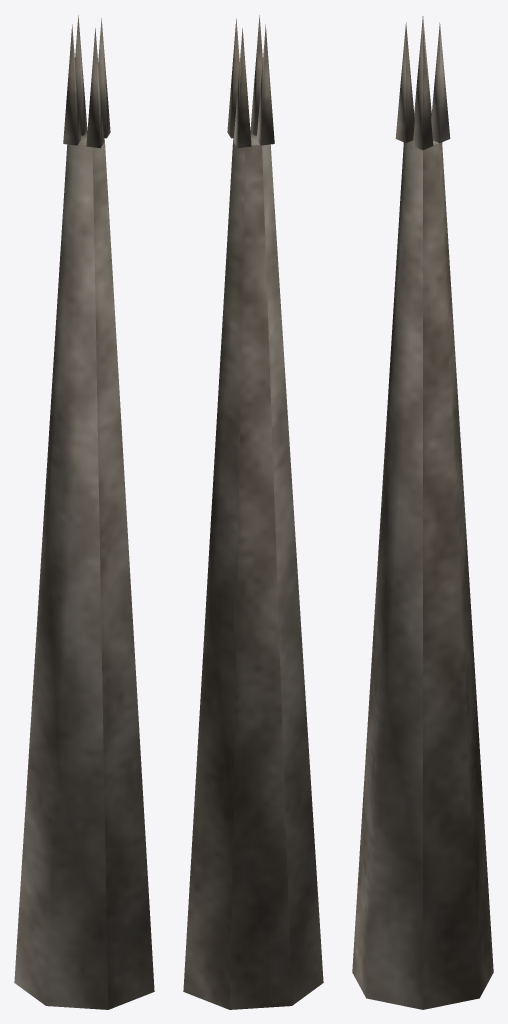
The model's file is ambient_tree_15.glb.
The picture shows the model from 3 angles, left to right: view 1: azimuth 30°, elevation 25°; view 2: azimuth 150°, elevation 25°; view 3: azimuth 270°, elevation 25°; orthographic projection.
Parts seen in each view (by area): view 1: ambient_tree_15; view 2: ambient_tree_15; view 3: ambient_tree_15.
Boxes of the visible parts, x1,y1,x2,y2 form: ambient_tree_15: [14, 15, 154, 1009]; ambient_tree_15: [183, 15, 323, 1009]; ambient_tree_15: [352, 16, 493, 1009].
Bounding box in the file's own units: 0.5308 × 4.07 × 0.5444.
1 material, 1 textured.
